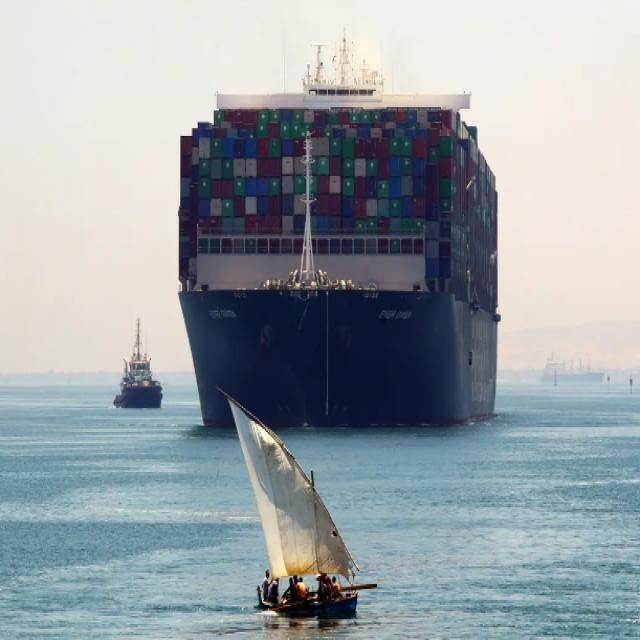cargoship: (183, 68, 505, 420), (99, 310, 166, 412)
sailboat: (198, 378, 369, 626)
